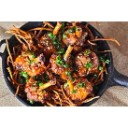chicken_lollipop: (13, 46, 45, 79), (35, 20, 65, 53), (62, 71, 94, 100), (25, 78, 57, 105), (48, 47, 75, 78), (76, 50, 102, 79), (63, 26, 87, 56)
